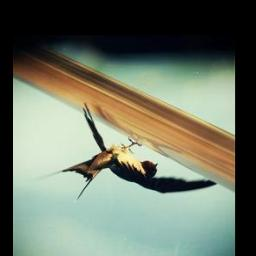Swallow: (33, 103, 220, 202)
